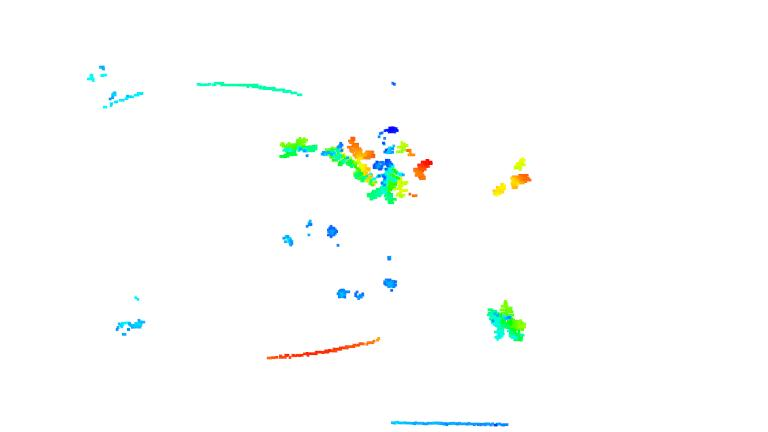chickpea: (369, 137, 432, 209), (322, 131, 375, 186), (483, 299, 530, 346), (482, 156, 533, 196), (280, 133, 321, 165)
